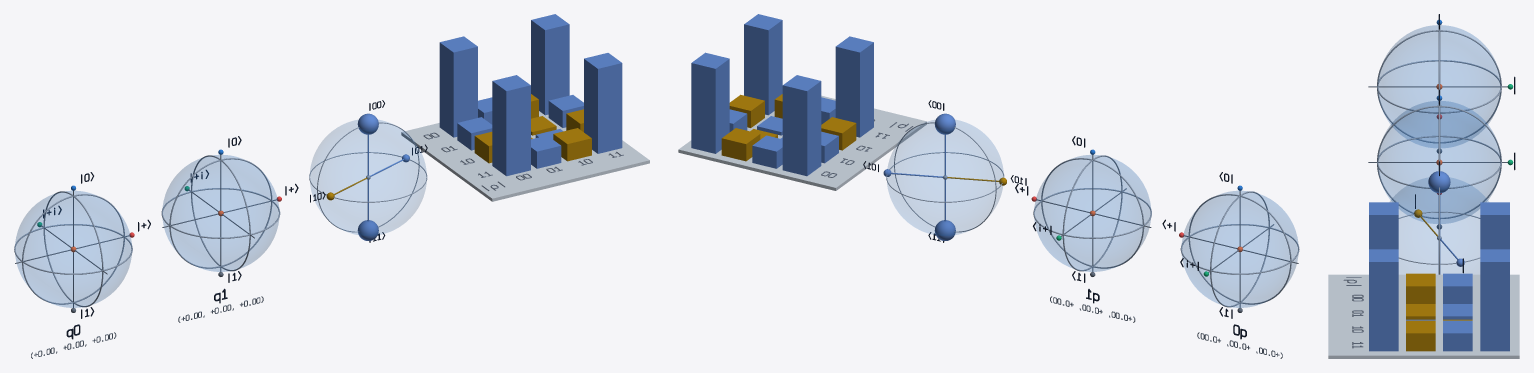
The picture shows the model from 3 angles, left to right: view 1: azimuth 30°, elevation 25°; view 2: azimuth 150°, elevation 25°; view 3: azimuth 270°, elevation 25°; orthographic projection. The views are drawn at different scales.
Parts seen in each view (by area): view 1: bloch_q0_sphere, bloch_q1_sphere, qsphere_sphere, density_plate, density_rho_11_00, density_rho_11_11, density_rho_00_00, density_rho_00_11, density_rho_11_10, density_rho_11_01, density_rho_01_11, density_rho_01_00 (+6 smaller); view 2: bloch_q1_sphere, bloch_q0_sphere, qsphere_sphere, density_plate, density_rho_00_00, density_rho_00_11, density_rho_11_00, density_rho_11_11, density_rho_00_10, density_rho_00_01, density_rho_10_11, density_rho_10_00 (+6 smaller); view 3: bloch_q0_sphere, bloch_q1_sphere, density_plate, qsphere_sphere, density_rho_00_11, density_rho_11_11, density_rho_00_00, density_rho_11_00, density_rho_01_11, density_rho_10_11, density_rho_01_00, density_rho_10_00 (+11 smaller).
Boxes of the visible parts, x1=… form: bloch_q0_sphere: x1=15, y1=191, x2=131, y2=307; bloch_q1_sphere: x1=163, y1=155, x2=278, y2=271; qsphere_sphere: x1=310, y1=120, x2=426, y2=235; density_plate: x1=401, y1=111, x2=649, y2=201; density_rho_11_00: x1=492, y1=75, x2=530, y2=176; density_rho_11_11: x1=584, y1=53, x2=622, y2=153; density_rho_00_00: x1=439, y1=36, x2=477, y2=137; density_rho_00_11: x1=531, y1=14, x2=569, y2=115; density_rho_11_10: x1=553, y1=128, x2=591, y2=161; density_rho_11_01: x1=531, y1=135, x2=561, y2=168; density_rho_01_11: x1=548, y1=95, x2=583, y2=127; density_rho_01_00: x1=457, y1=117, x2=492, y2=150; bloch_q1_sphere: x1=1034, y1=155, x2=1150, y2=271; bloch_q0_sphere: x1=1182, y1=191, x2=1298, y2=307; qsphere_sphere: x1=887, y1=120, x2=1003, y2=235; density_plate: x1=678, y1=95, x2=926, y2=190; density_rho_00_00: x1=782, y1=75, x2=821, y2=176; density_rho_00_11: x1=691, y1=52, x2=729, y2=153; density_rho_11_00: x1=835, y1=36, x2=873, y2=137; density_rho_11_11: x1=744, y1=14, x2=782, y2=115; density_rho_00_10: x1=721, y1=128, x2=760, y2=161; density_rho_00_01: x1=752, y1=135, x2=782, y2=168; density_rho_10_11: x1=729, y1=94, x2=764, y2=127; density_rho_10_00: x1=821, y1=117, x2=856, y2=150; bloch_q0_sphere: x1=1378, y1=25, x2=1500, y2=147; bloch_q1_sphere: x1=1378, y1=101, x2=1500, y2=223; density_plate: x1=1328, y1=274, x2=1519, y2=358; qsphere_sphere: x1=1390, y1=177, x2=1488, y2=274; density_rho_00_11: x1=1480, y1=249, x2=1509, y2=351; density_rho_11_11: x1=1369, y1=249, x2=1398, y2=351; density_rho_00_00: x1=1480, y1=202, x2=1509, y2=249; density_rho_11_00: x1=1369, y1=202, x2=1398, y2=249; density_rho_01_11: x1=1443, y1=320, x2=1472, y2=351; density_rho_10_11: x1=1406, y1=320, x2=1435, y2=351; density_rho_01_00: x1=1443, y1=273, x2=1472, y2=303; density_rho_10_00: x1=1406, y1=273, x2=1435, y2=303.
Size of the model in its own units: 11.45 by 3.48 by 3.1.
